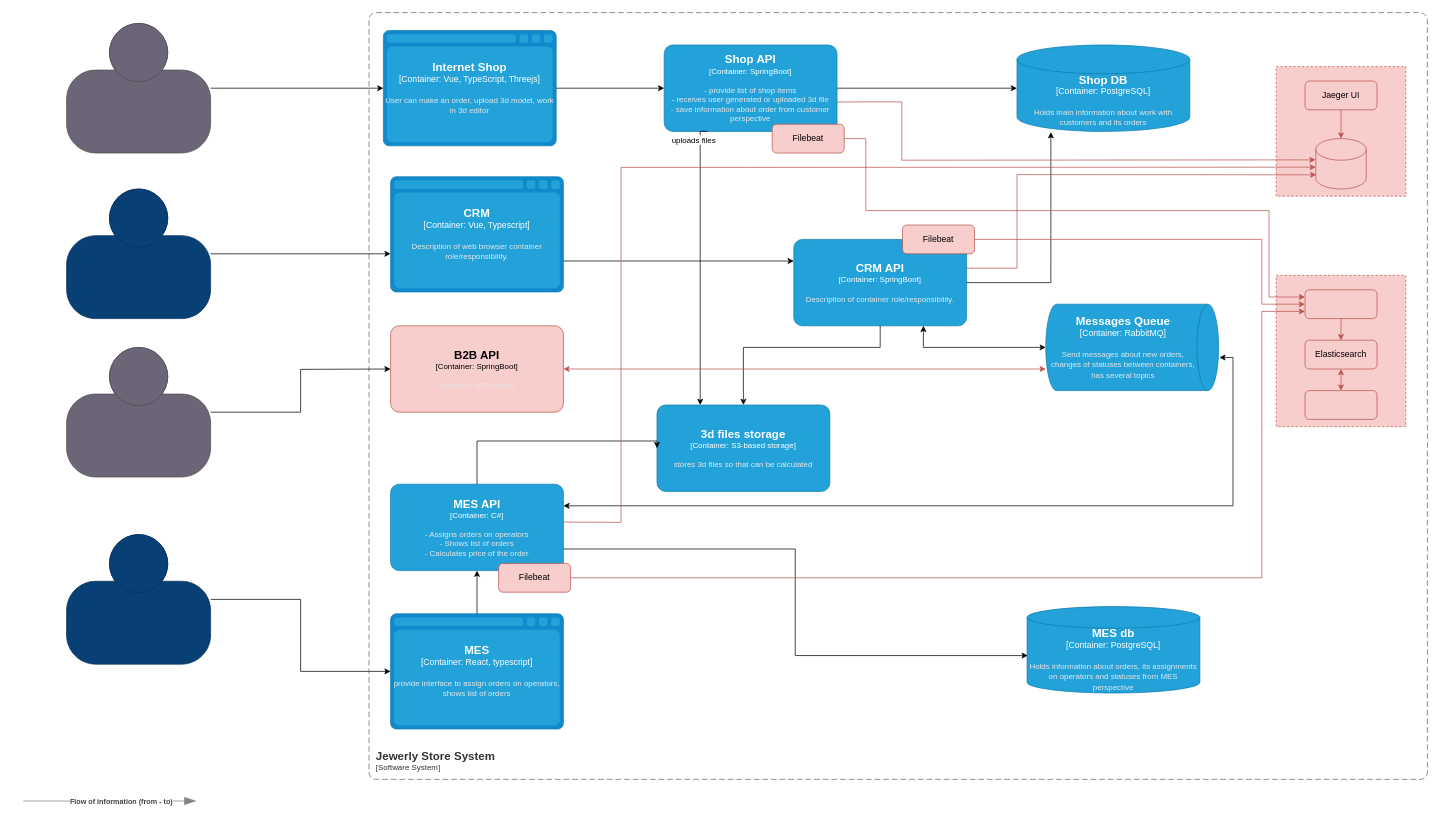
The diagram is 1440 pixels wide and 825 high, and some of its shapes have lost their labels. Each missing label, with the centre of its shape:
API user [Person] Description of external person.: pixel 138 412
Customer [Person] Description of external person.: pixel 138 88
Jaeger: pixel 1340 163
Kibana: pixel 1340 404
Logstash: pixel 1340 304
Operator [Person] Takes order in work, manufactures jewerly: pixel 138 599
Seller [Person] Operates with order, confirms manufacturing for the user: pixel 138 253
